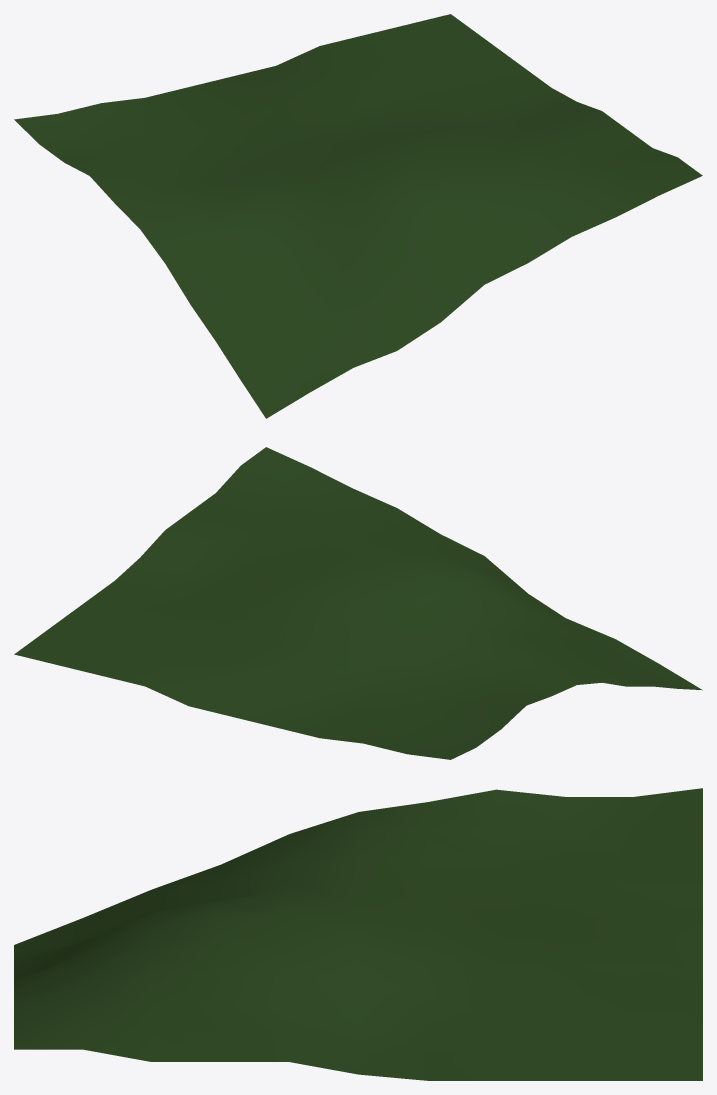
3 renders of one model, top to bottom at view 1: azimuth 30°, elevation 25°; view 2: azimuth 150°, elevation 25°; view 3: azimuth 270°, elevation 25°, orthographic. The views are drawn at different scales.
Parts seen in each view (by area): view 1: TerrainModel.074; view 2: TerrainModel.074; view 3: TerrainModel.074.
Boxes of the visible parts, x1,y1,x2,y2 form: TerrainModel.074: [14, 14, 702, 418]; TerrainModel.074: [14, 447, 702, 759]; TerrainModel.074: [14, 788, 702, 1080].
Bounding box in the file's own units: 19608 × 5859 × 19608.
